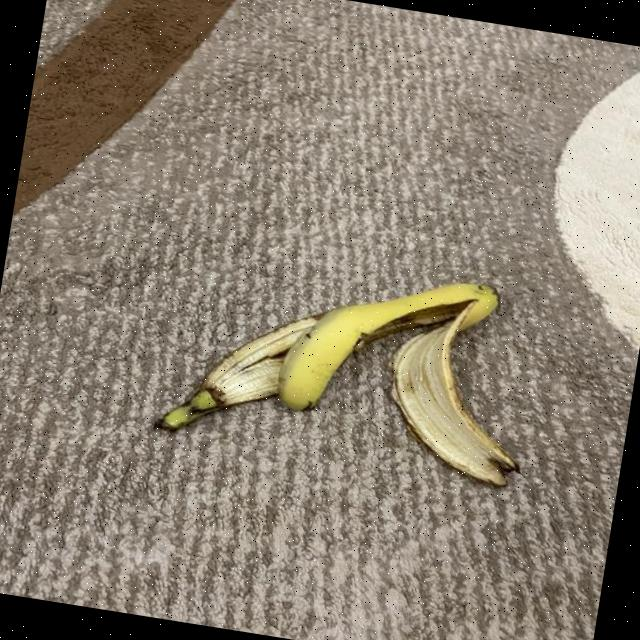banana-peel: (154, 234, 548, 491), (272, 252, 502, 442), (374, 288, 546, 491)
